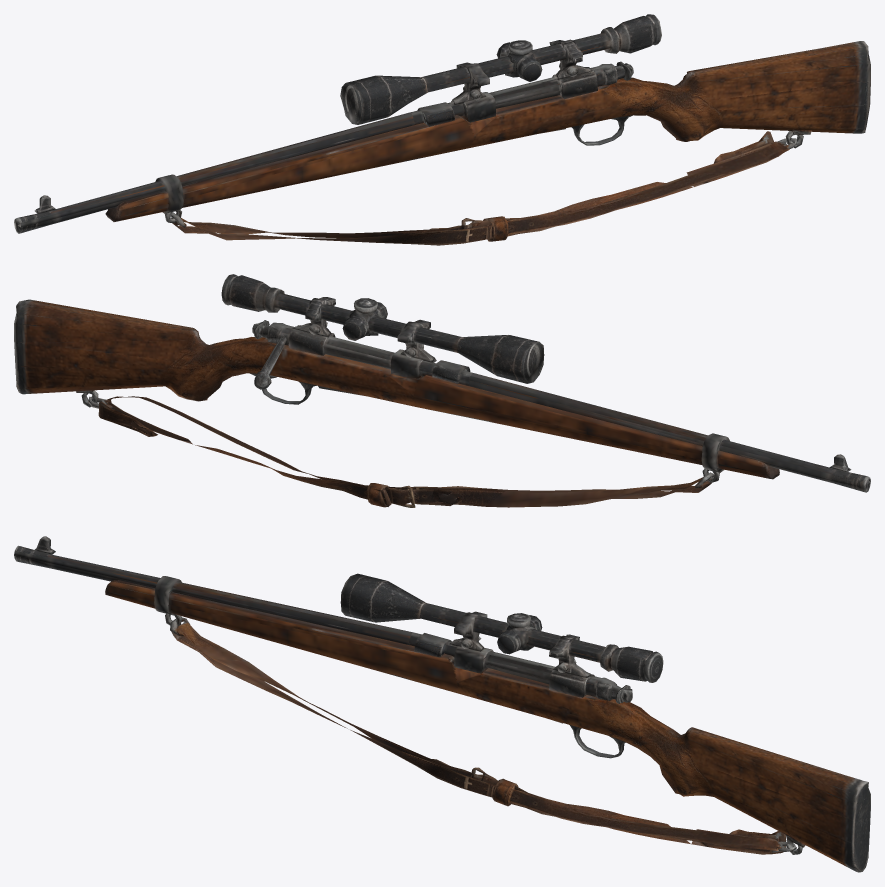
Rendered from Meshy_AI_model.fbx.
3 renders of one model, top to bottom at view 1: azimuth 30°, elevation 25°; view 2: azimuth 150°, elevation 25°; view 3: azimuth 330°, elevation 25°, orthographic.
Parts seen in each view (by area): view 1: Mesh_0; view 2: Mesh_0; view 3: Mesh_0.
Part boxes in pixels (left/top/right/bottom): Mesh_0: left=14, top=14, right=870, bottom=245; Mesh_0: left=14, top=274, right=870, bottom=507; Mesh_0: left=14, top=536, right=870, bottom=872.
Size of the model in its own units: 95.75 by 21.24 by 8.3.
1 material, 1 textured.
